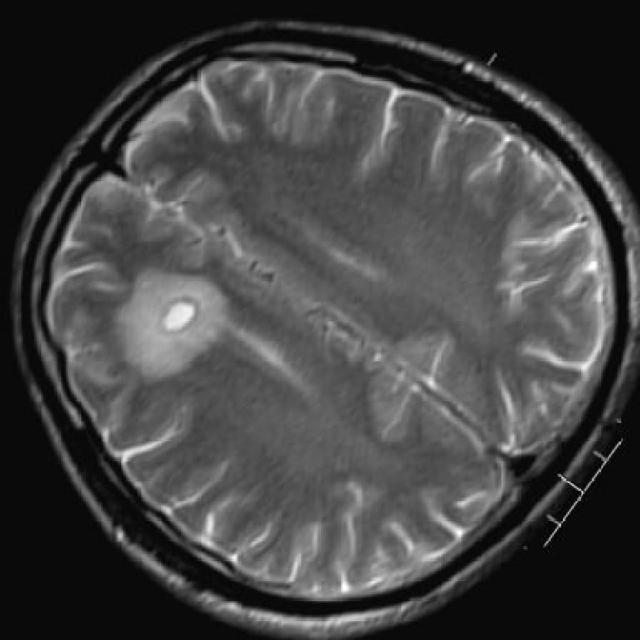Brain-Tumor: (131, 277, 237, 363)
